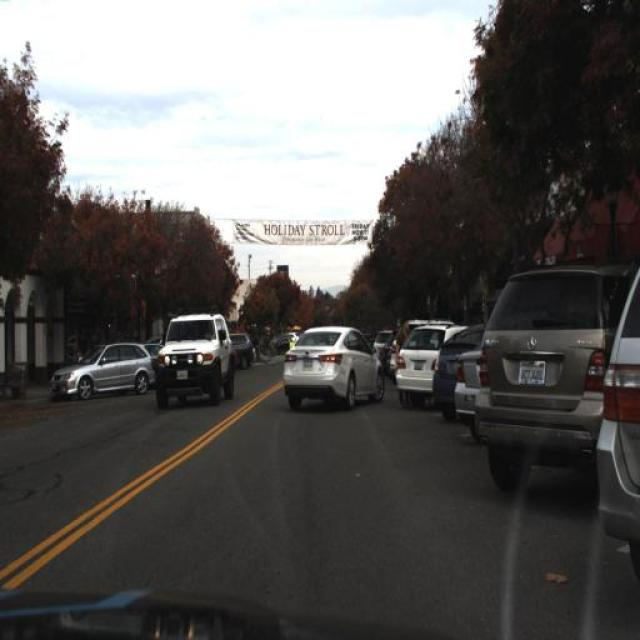car: (470, 261, 630, 514), (479, 260, 630, 506), (279, 313, 387, 411), (150, 306, 242, 414), (430, 323, 489, 428), (394, 322, 472, 398), (51, 341, 156, 397), (393, 322, 442, 407), (428, 326, 473, 418), (451, 343, 484, 452), (226, 326, 255, 376)
trafficLight: (392, 313, 413, 412), (395, 317, 410, 408)
